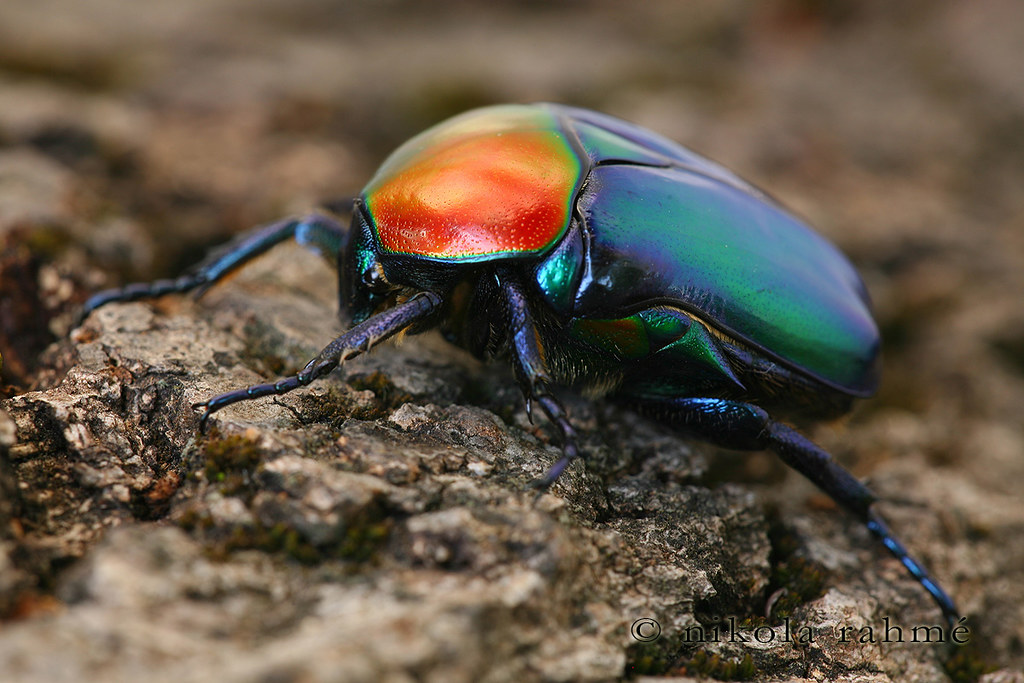Protaetia_speciosa_jousseliniw: (50, 84, 984, 640)
